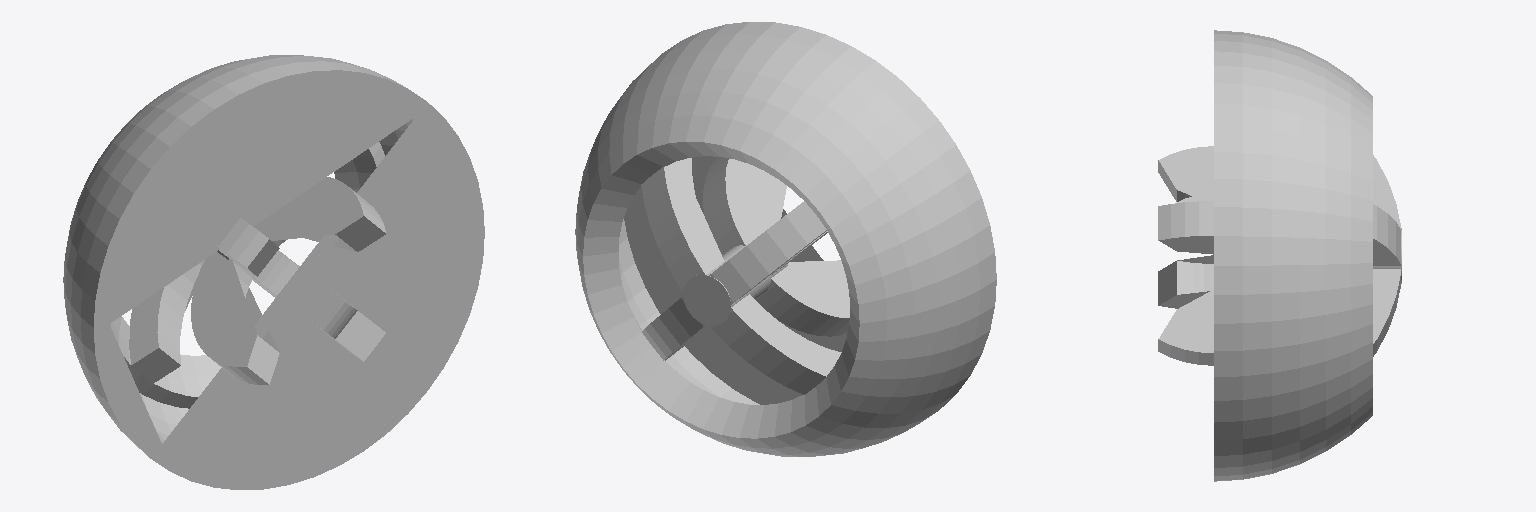
The model's file is AC_EYE_SCLERA_v001.obj.
The picture shows the model from 3 angles: view 1: azimuth 30°, elevation 25°; view 2: azimuth 150°, elevation 25°; view 3: azimuth 270°, elevation 25°; orthographic projection.
Visible parts, largest first — view 1: Mesh6 GROUP10 GROUP7 Model, Mesh4 COMPONENT4 GROUP8 GROUP7 Model, Mesh2 COMPONENT2 GROUP8 GROUP7 Model, Mesh5 COMPONENT5 GROUP8 GROUP7 Model, Mesh3 COMPONENT3 GROUP8 GROUP7 Model; view 2: Mesh6 GROUP10 GROUP7 Model, Mesh2 COMPONENT2 GROUP8 GROUP7 Model, Mesh4 COMPONENT4 GROUP8 GROUP7 Model, Mesh1 GROUP9 GROUP8 GROUP7 Model; view 3: Mesh6 GROUP10 GROUP7 Model, Mesh5 COMPONENT5 GROUP8 GROUP7 Model, Mesh2 COMPONENT2 GROUP8 GROUP7 Model, Mesh3 COMPONENT3 GROUP8 GROUP7 Model, Mesh4 COMPONENT4 GROUP8 GROUP7 Model.
Boxes of the visible parts, <box> form: Mesh6 GROUP10 GROUP7 Model: <box>63,55,484,489</box>; Mesh4 COMPONENT4 GROUP8 GROUP7 Model: <box>191,252,279,384</box>; Mesh2 COMPONENT2 GROUP8 GROUP7 Model: <box>254,177,385,251</box>; Mesh5 COMPONENT5 GROUP8 GROUP7 Model: <box>253,250,385,361</box>; Mesh3 COMPONENT3 GROUP8 GROUP7 Model: <box>211,212,279,276</box>; Mesh6 GROUP10 GROUP7 Model: <box>575,22,996,456</box>; Mesh2 COMPONENT2 GROUP8 GROUP7 Model: <box>703,157,786,254</box>; Mesh4 COMPONENT4 GROUP8 GROUP7 Model: <box>755,260,849,336</box>; Mesh1 GROUP9 GROUP8 GROUP7 Model: <box>683,243,787,325</box>; Mesh6 GROUP10 GROUP7 Model: <box>1214,30,1400,481</box>; Mesh5 COMPONENT5 GROUP8 GROUP7 Model: <box>1158,290,1213,365</box>; Mesh2 COMPONENT2 GROUP8 GROUP7 Model: <box>1158,201,1213,254</box>; Mesh3 COMPONENT3 GROUP8 GROUP7 Model: <box>1158,146,1213,202</box>; Mesh4 COMPONENT4 GROUP8 GROUP7 Model: <box>1158,255,1213,308</box>.
Size of the model in its own units: 24.6 by 24.6 by 13.24.